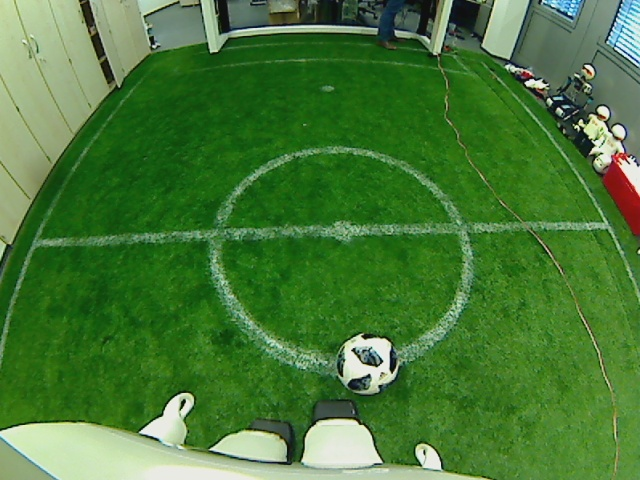ball: (335, 332, 400, 396)
